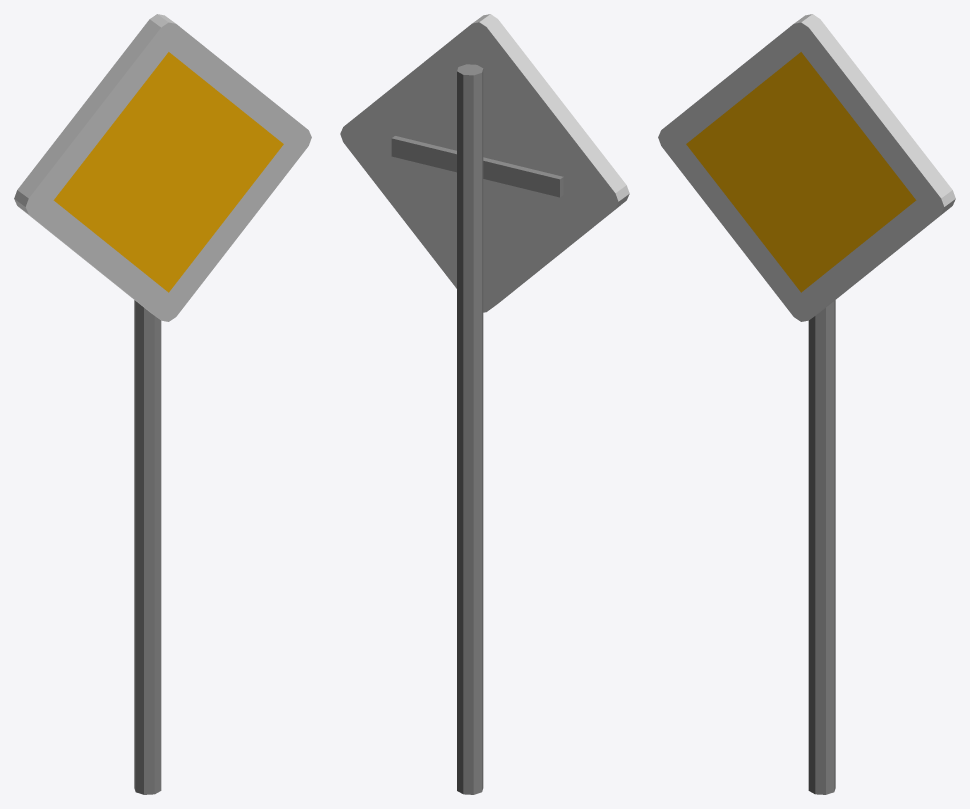
The model's file is RoadSign_01.fbx.
The picture shows the model from 3 angles, left to right: view 1: azimuth 30°, elevation 25°; view 2: azimuth 150°, elevation 25°; view 3: azimuth 330°, elevation 25°; orthographic projection. The views are drawn at different scales.
Visible parts, largest first — view 1: RoadSign_01; view 2: RoadSign_01; view 3: RoadSign_01.
Part boxes in pixels (left/top/right/bottom): RoadSign_01: left=14, top=14, right=311, bottom=794; RoadSign_01: left=340, top=14, right=629, bottom=794; RoadSign_01: left=658, top=14, right=955, bottom=794.
Size of the model in its own units: 71.36 by 186 by 12.09.
